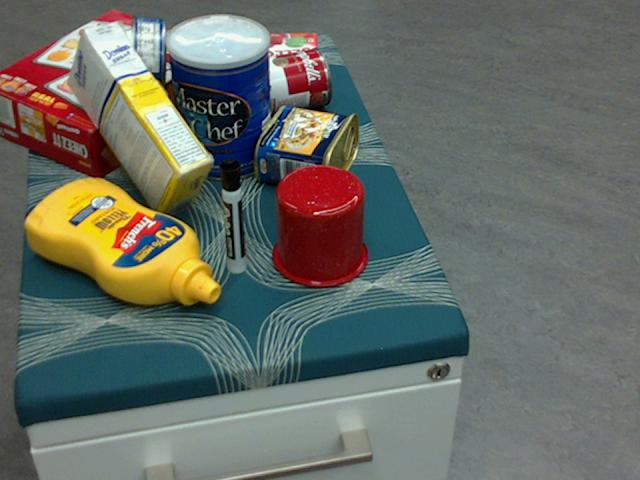cracker_box: (0, 11, 220, 180)
gelatin_box: (245, 32, 317, 80)
large_marker: (219, 157, 245, 272)
master_chef_can: (166, 14, 272, 180)
mug: (269, 163, 367, 286)
mustard_bottle: (25, 178, 220, 304)
potted_meat_can: (254, 103, 358, 197)
sugar_box: (68, 22, 215, 218)
tomato_soup_can: (230, 46, 331, 119)
tuna_fish_can: (130, 14, 164, 100)
